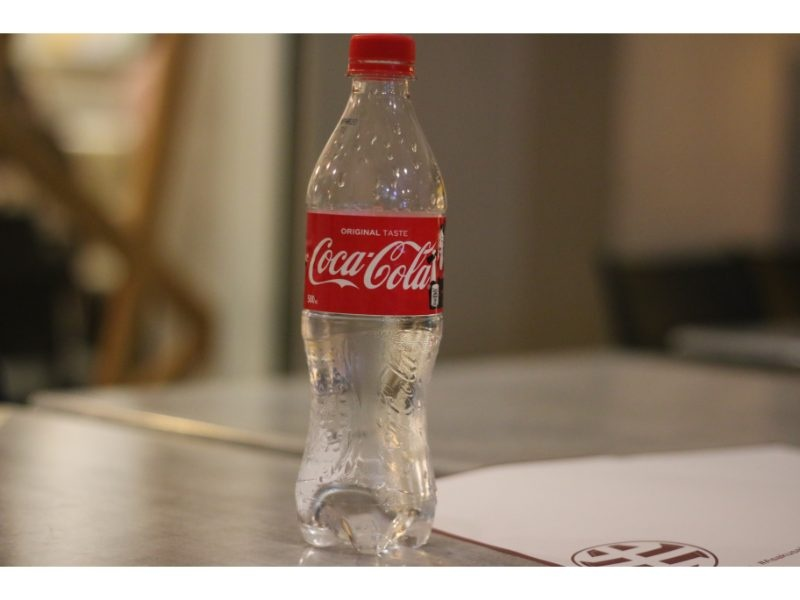PET #1: (301, 33, 447, 559)
